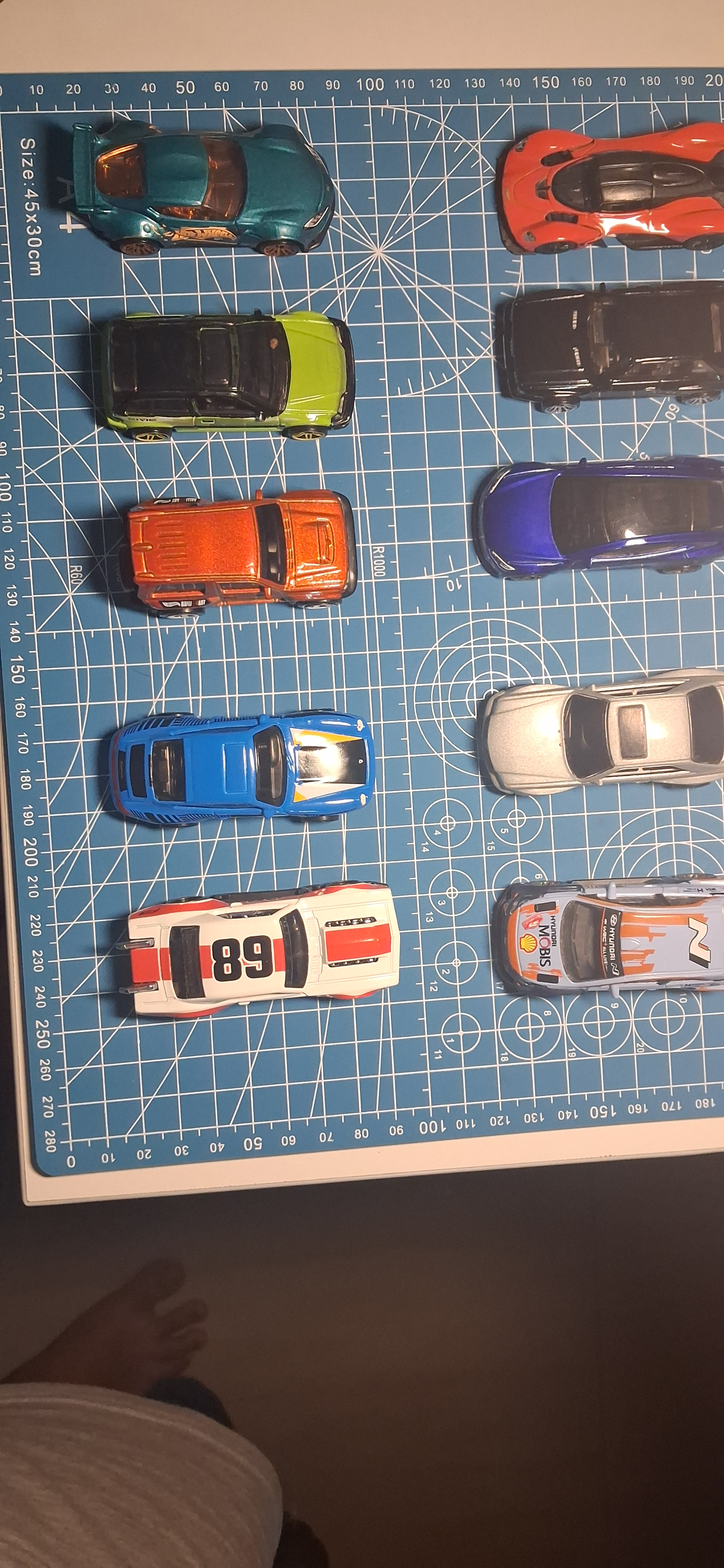Audi_Quattro: (437, 264, 724, 403)
Camaro: (100, 858, 425, 1043)
Hyundai_I20_WRC: (478, 866, 724, 1017)
Mercedes_Benz_560_SEC_AMG: (458, 635, 724, 822)
Porsche_Carrera: (63, 685, 397, 840)
Tesla_Model_S_Plaid: (464, 445, 724, 592)
Toyota_GR_Supra: (45, 87, 358, 275)
